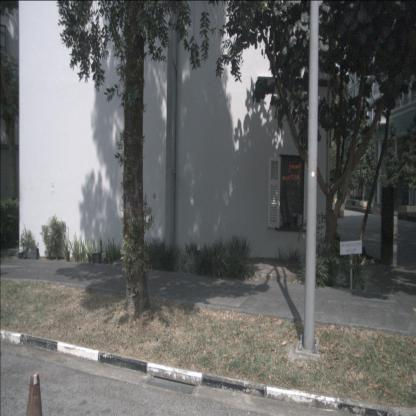movable_object-trafficcone: (22, 372, 46, 416)
